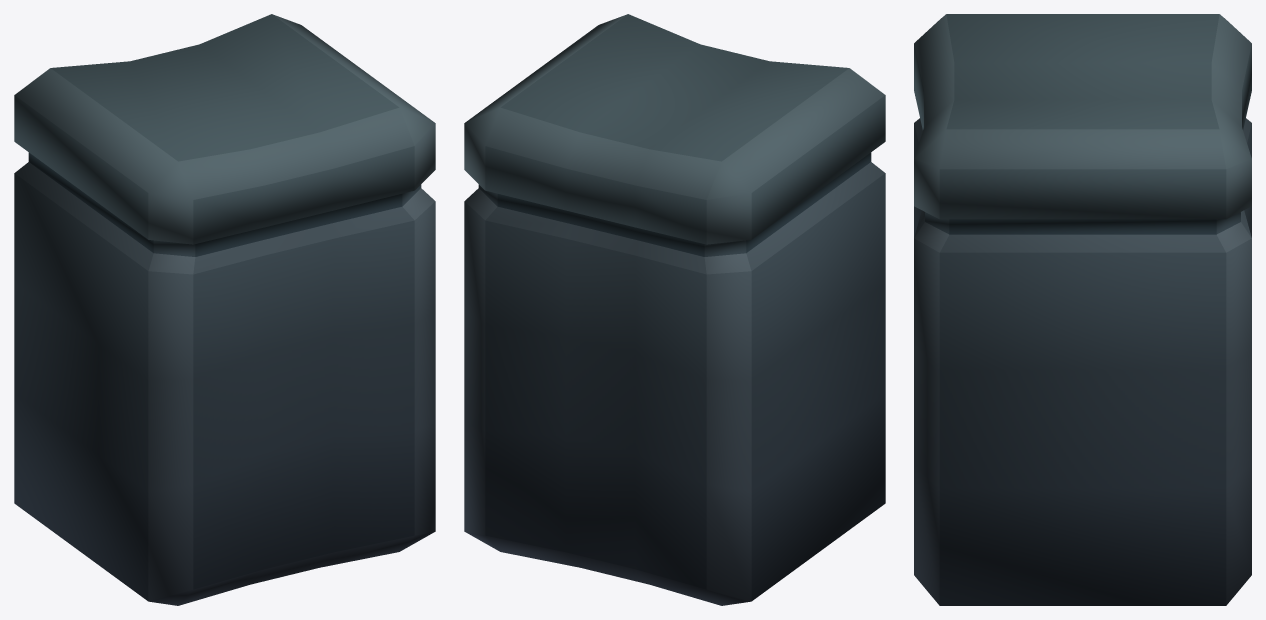
File: bin.fbx
3 renders of one model, left to right at view 1: azimuth 30°, elevation 25°; view 2: azimuth 150°, elevation 25°; view 3: azimuth 270°, elevation 25°, orthographic. The views are drawn at different scales.
Visible parts, largest first — view 1: bin; view 2: bin; view 3: bin.
Boxes of the visible parts, x1,y1,x2,y2 form: bin: [14, 14, 435, 605]; bin: [464, 14, 885, 605]; bin: [914, 14, 1251, 605].
Size of the model in its own units: 153 by 226 by 146.
